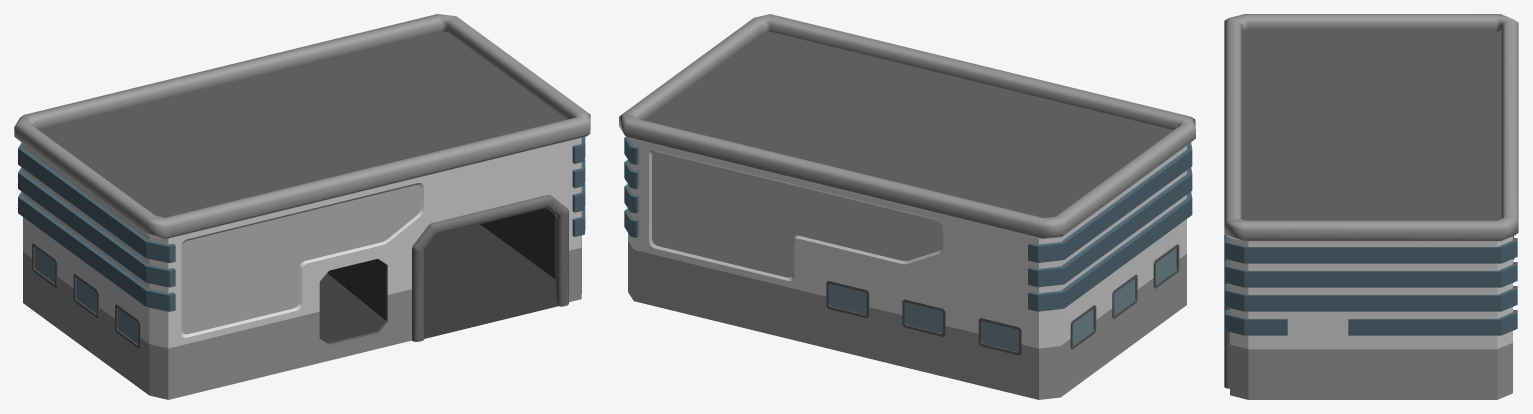
The model's file is hangar_005.fbx.
3 views of the same model, side by side, from view 1: azimuth 30°, elevation 25°; view 2: azimuth 150°, elevation 25°; view 3: azimuth 270°, elevation 25° (orthographic).
Visible parts, largest first — view 1: hangar_005; view 2: hangar_005; view 3: hangar_005.
Boxes of the visible parts, left/top/right/bottom form: hangar_005: left=14, top=14, right=590, bottom=399; hangar_005: left=619, top=14, right=1195, bottom=399; hangar_005: left=1224, top=14, right=1518, bottom=399.
Bounding box in the file's own units: 1828 × 1063 × 704.
